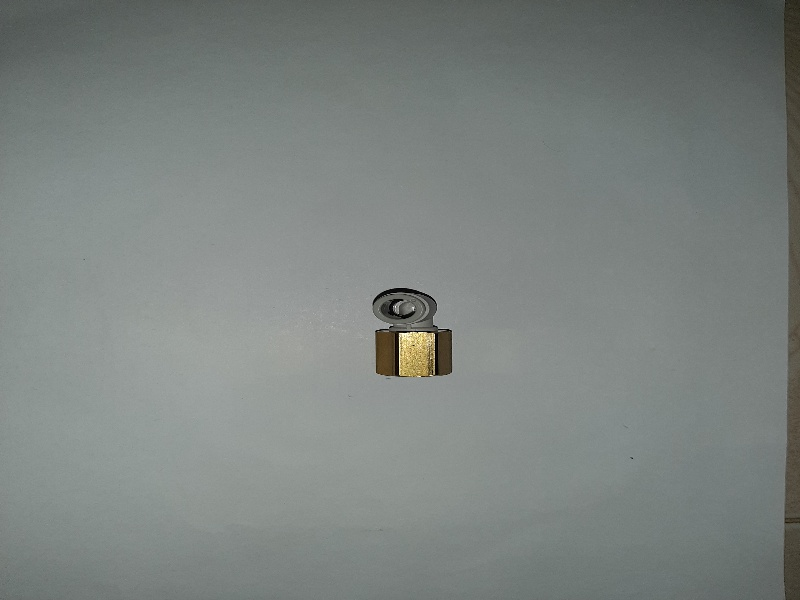Connector: (364, 286, 461, 380)
